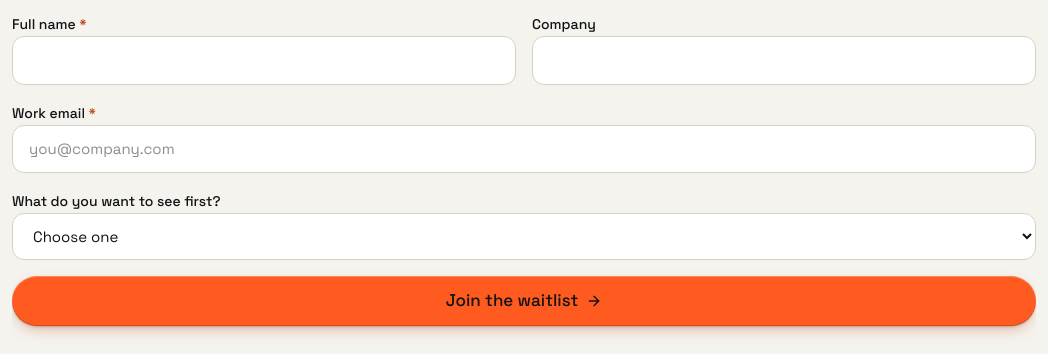
Test: the waitlist form › emails the signup to contact@aevrinlabs.com, marked as a waitlist signup
Type "Maya Ross" into the field labelled "Full name *" at (264, 60), box [12,36,516,84]
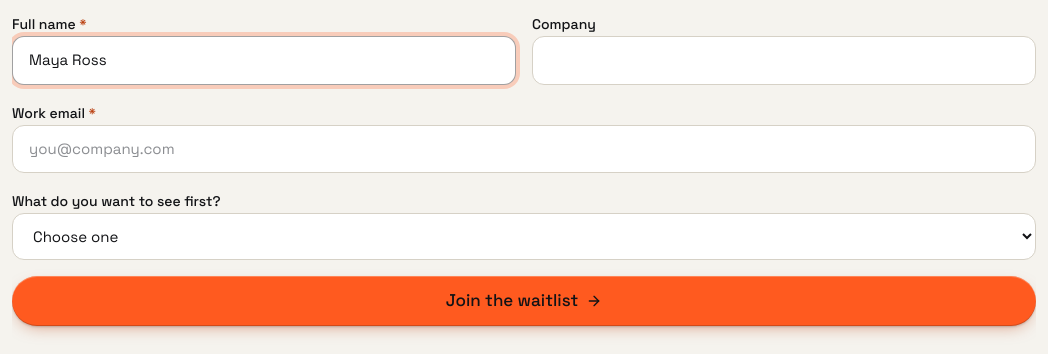
Type "Example Co" into the field labelled "Company" at (784, 60), box [532,36,1036,84]
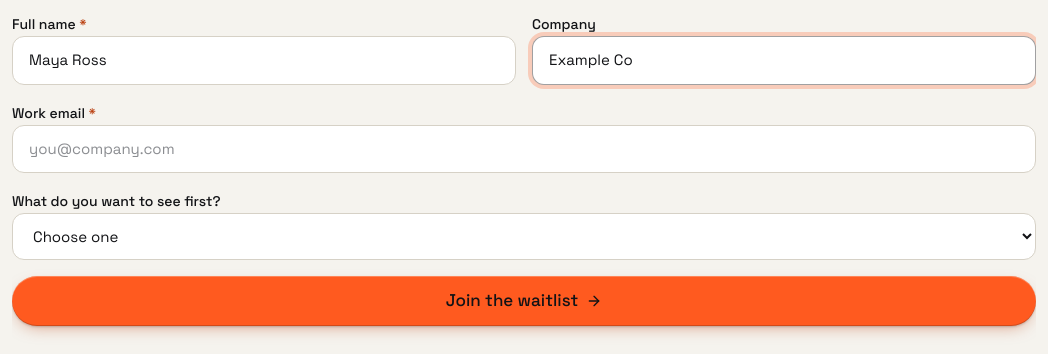
Type "maya@example.com" into the field labelled "Work email *" at (524, 149), box [12,124,1036,173]
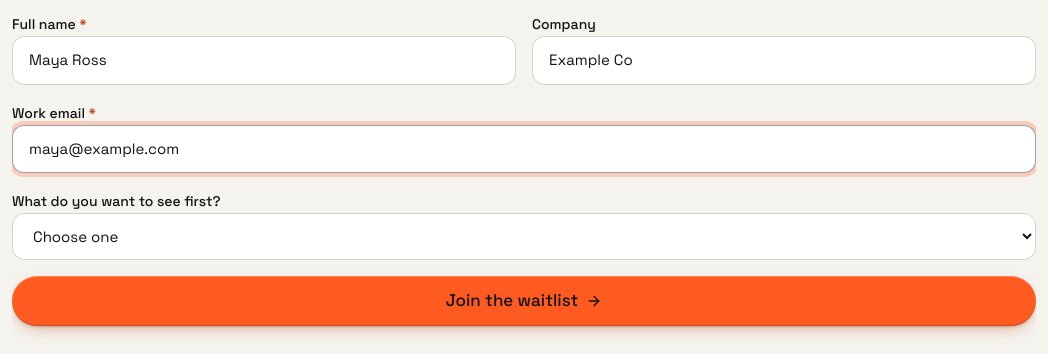
Select "Live guardrails" in the dropdown labelled "What do you want to see first?" at (524, 236), box [12,213,1036,260]
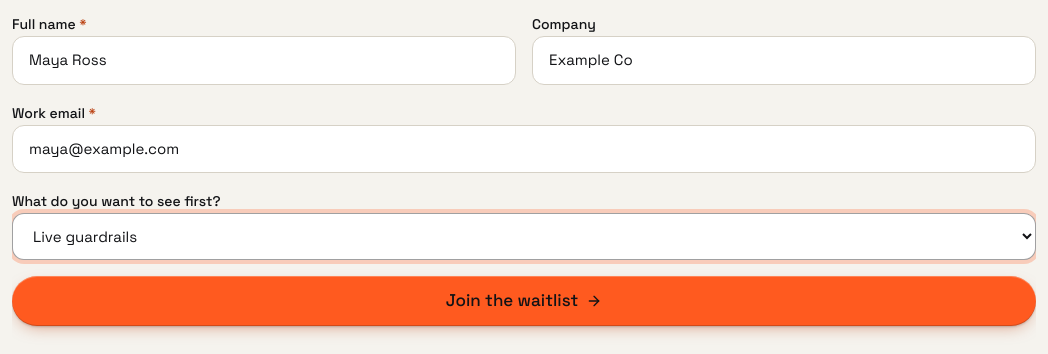
Click the button "Join the waitlist" at (524, 301), box [12,276,1036,326]
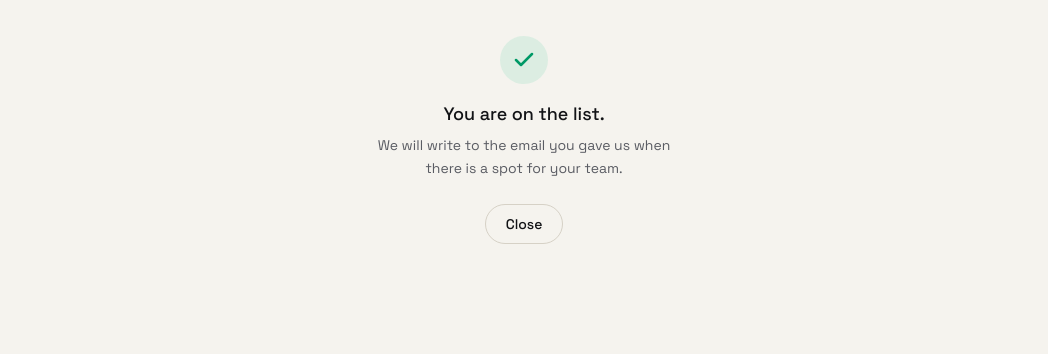
Now the text "You are on the list." is shown, box [443,100,605,128]
